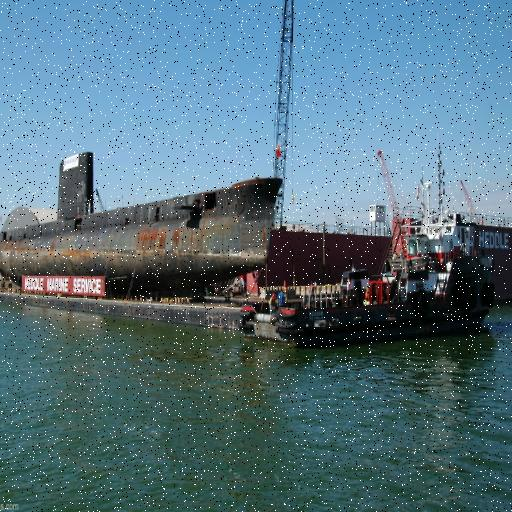submarine: (1, 144, 275, 269)
